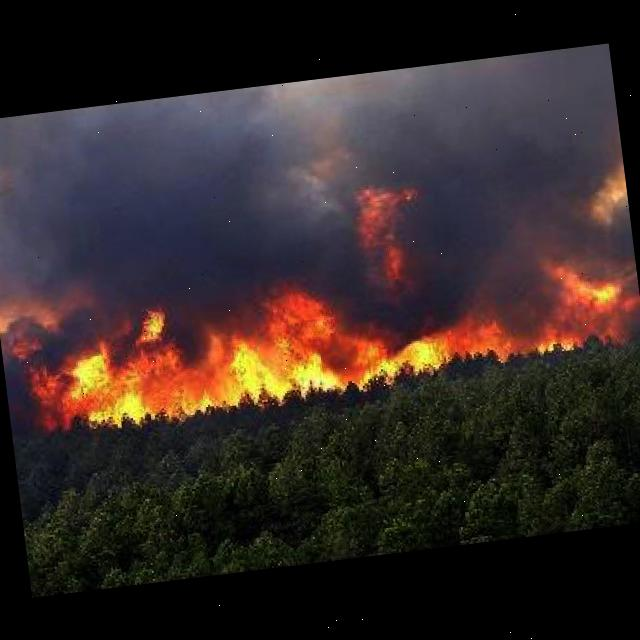fire: (11, 252, 528, 439), (530, 241, 632, 357)
